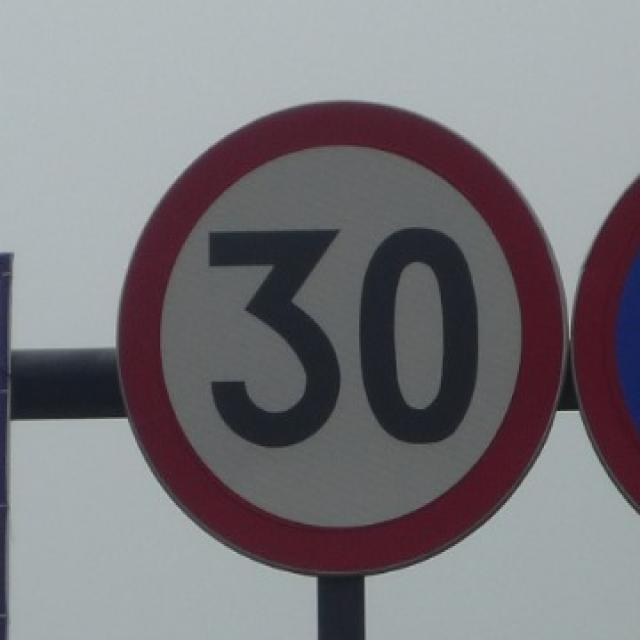Speed Limit -30-: (204, 222, 483, 448)
